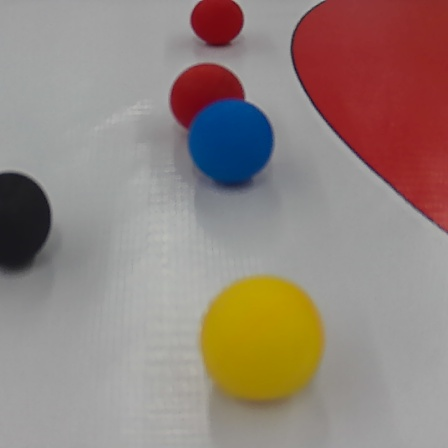black: (2, 172, 51, 268)
blue: (193, 95, 274, 187)
red: (167, 67, 246, 127), (190, 1, 247, 45)
red_base: (294, 0, 446, 241)
yellow: (197, 274, 327, 405)
